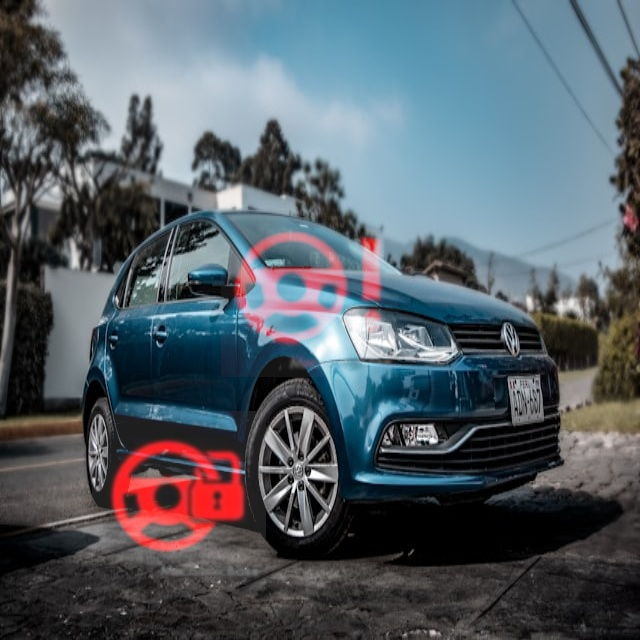symbol: (221, 200, 398, 377), (92, 411, 266, 585)
